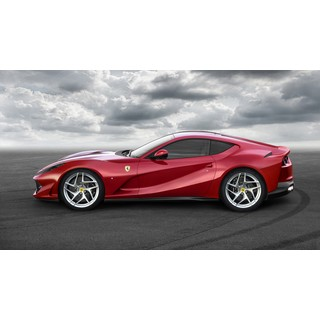car: (32, 130, 293, 210)
